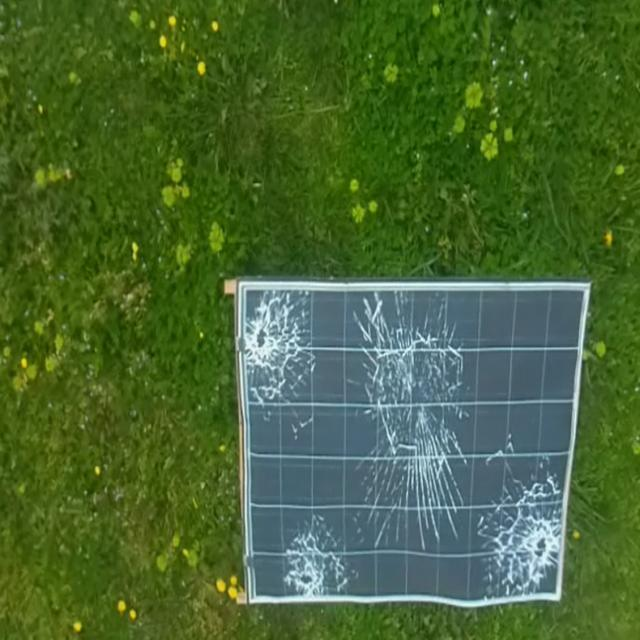faulty: (240, 286, 558, 608)
